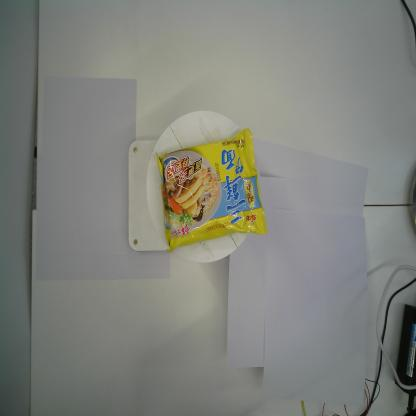Instant Noodles: (156, 127, 268, 254)
